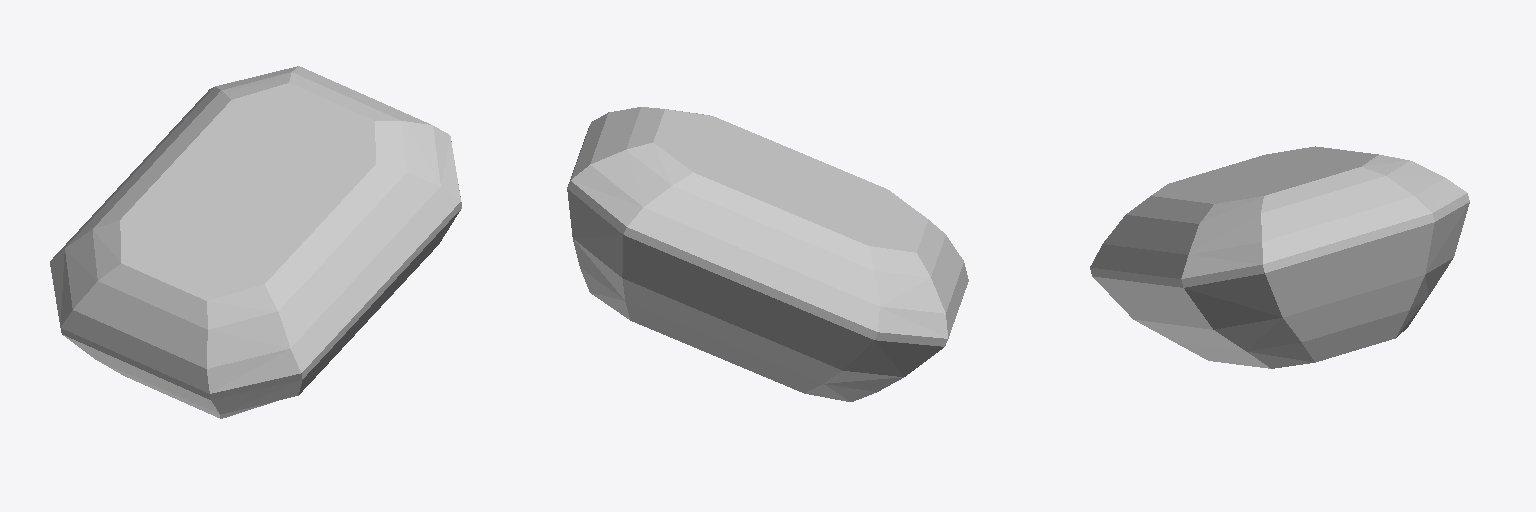
File: emerald1.obj
The picture shows the model from 3 angles: view 1: azimuth 30°, elevation 25°; view 2: azimuth 150°, elevation 25°; view 3: azimuth 270°, elevation 25°; orthographic projection.
Parts seen in each view (by area): view 1: pCube2; view 2: pCube2; view 3: pCube2.
Part boxes in pixels (bbox=[...]): pCube2: bbox=[50, 66, 461, 418]; pCube2: bbox=[567, 107, 968, 401]; pCube2: bbox=[1090, 146, 1469, 368].
Bounding box in the file's own units: 2.58 × 1.65 × 2.26.